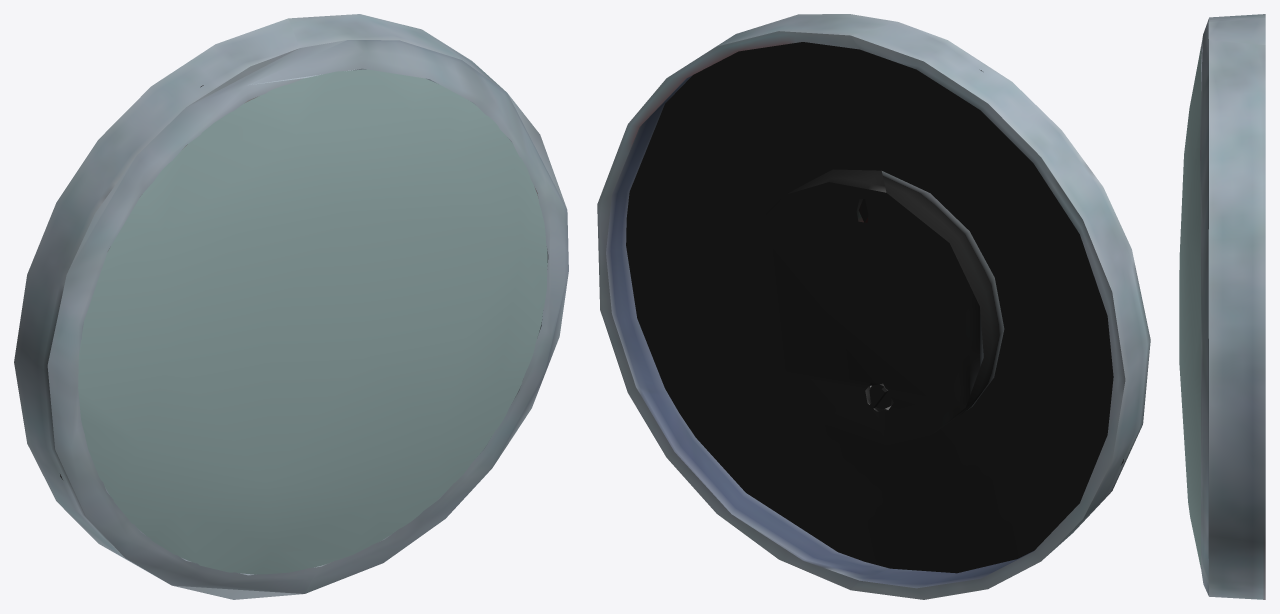
File: wall_clock.fbx
3 renders of one model, left to right at view 1: azimuth 30°, elevation 25°; view 2: azimuth 150°, elevation 25°; view 3: azimuth 270°, elevation 25°, orthographic. The views are drawn at different scales.
Parts seen in each view (by area): view 1: wall_clock; view 2: wall_clock; view 3: wall_clock.
Boxes of the visible parts, box(x1,y1,x2,y2) form: wall_clock: box(14, 14, 568, 599); wall_clock: box(597, 14, 1150, 599); wall_clock: box(1179, 14, 1265, 599).
Size of the model in its own units: 0.3202 by 0.3214 by 0.0473.
